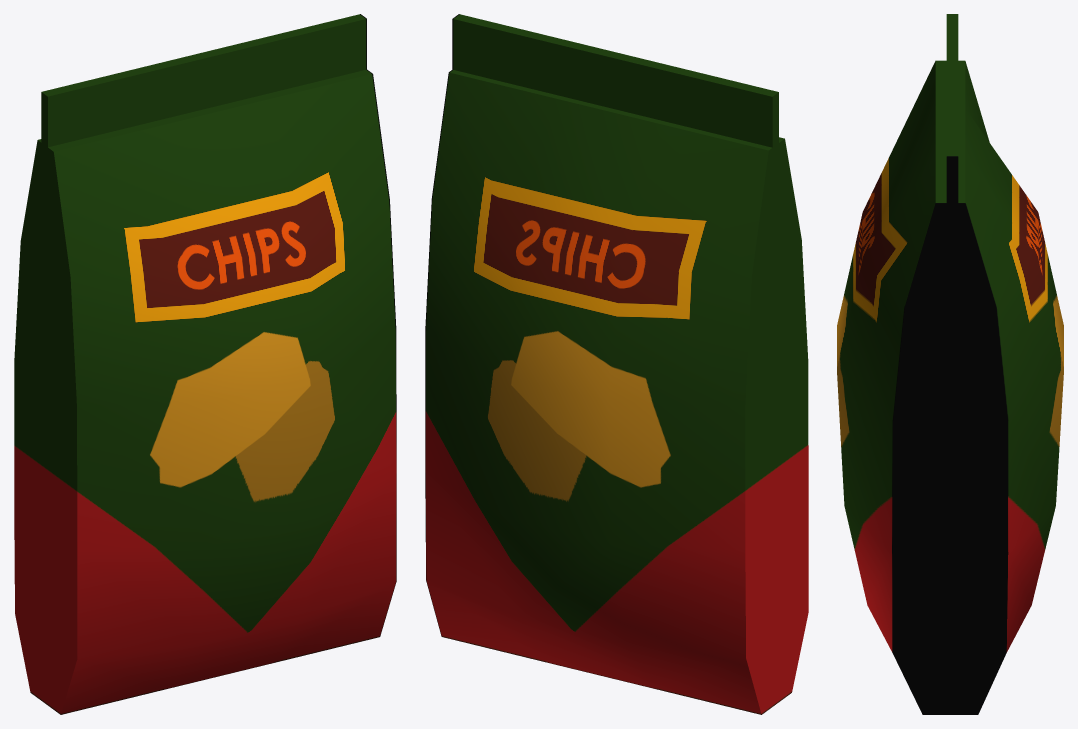
The model's file is SM_potato_chips_tx.fbx.
The picture shows the model from 3 angles, left to right: view 1: azimuth 30°, elevation 25°; view 2: azimuth 150°, elevation 25°; view 3: azimuth 270°, elevation 25°; orthographic projection. The views are drawn at different scales.
Visible parts, largest first — view 1: potato_chips_tx; view 2: potato_chips_tx; view 3: potato_chips_tx.
Part boxes in pixels (<box>): potato_chips_tx: <box>14,14,396,714</box>; potato_chips_tx: <box>425,14,808,714</box>; potato_chips_tx: <box>837,14,1063,714</box>.
Bounding box in the file's own units: 31.79 × 57.91 × 21.34.
Materials: 1 (1 with a texture image).
